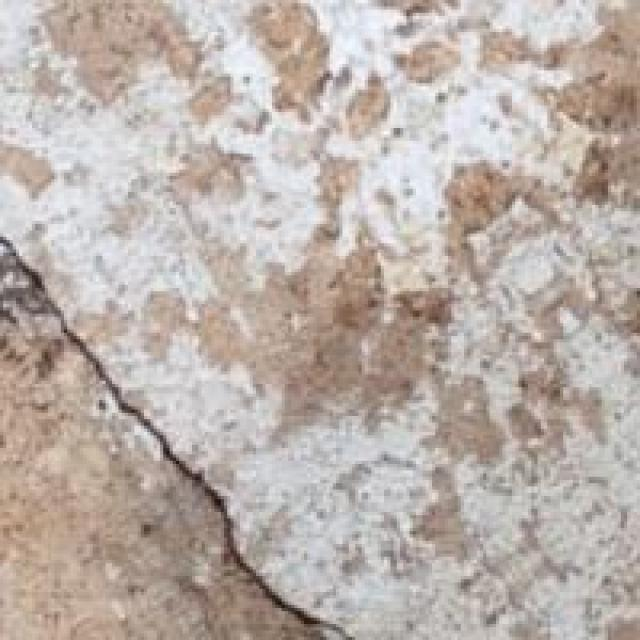Crack: (0, 163, 358, 636)
